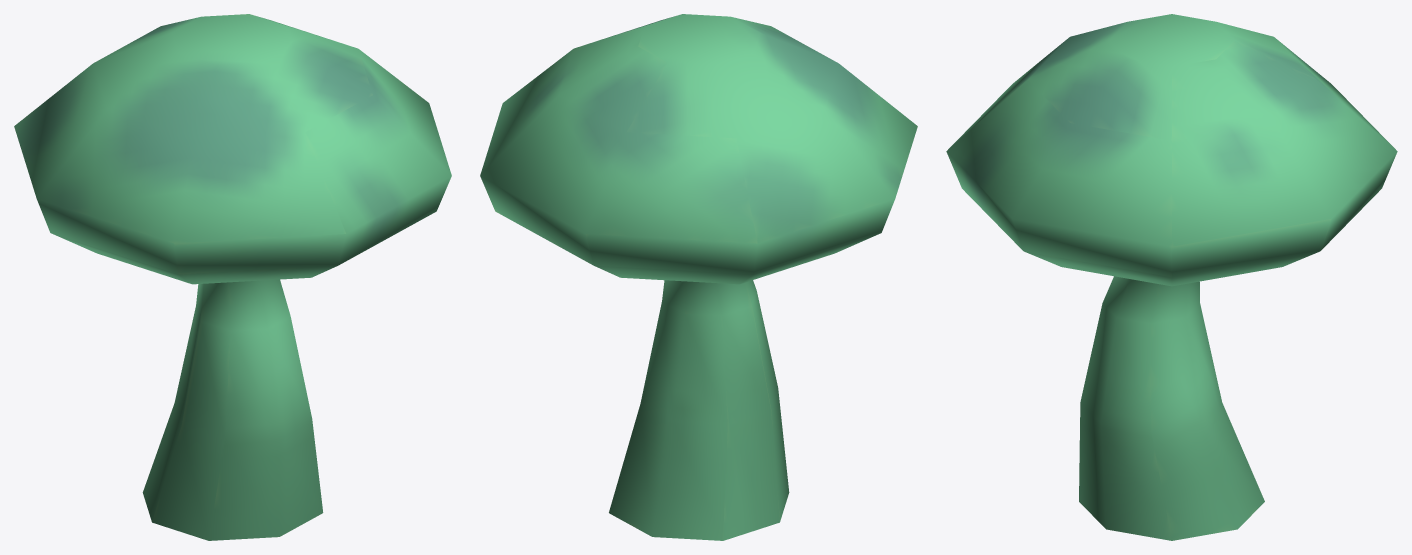
Rendered from CogumeloEmissivo.fbx.
The picture shows the model from 3 angles, left to right: view 1: azimuth 30°, elevation 25°; view 2: azimuth 150°, elevation 25°; view 3: azimuth 270°, elevation 25°; orthographic projection.
Visible parts, largest first — view 1: Cogumelo Emissivo; view 2: Cogumelo Emissivo; view 3: Cogumelo Emissivo.
Part boxes in pixels (x1,y1,x2,y2): Cogumelo Emissivo: (14,14,451,540); Cogumelo Emissivo: (480,14,917,540); Cogumelo Emissivo: (946,14,1397,540).
Bounding box in the file's own units: 44.17 × 49.8 × 44.17.
